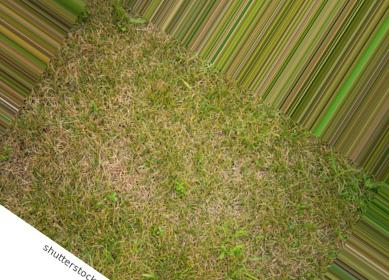patch: (198, 131, 251, 189), (108, 131, 149, 202)
